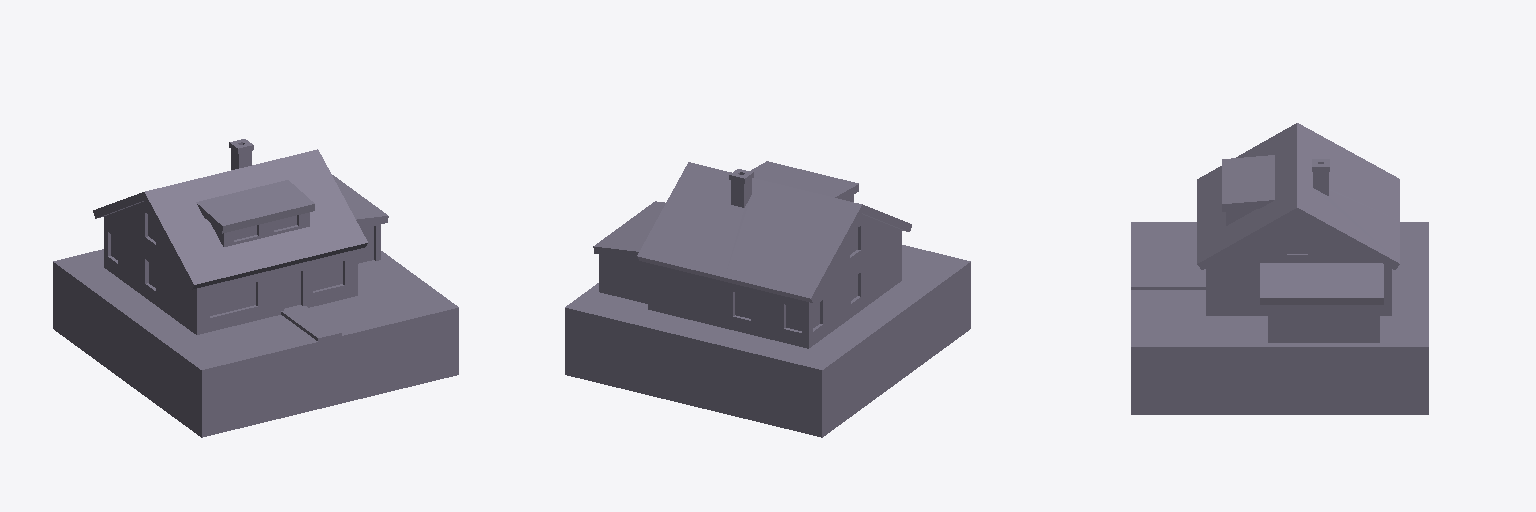
Rendered from house-small-garage.obj.
The picture shows the model from 3 angles: view 1: azimuth 30°, elevation 25°; view 2: azimuth 150°, elevation 25°; view 3: azimuth 270°, elevation 25°; orthographic projection.
Visible parts, largest first — view 1: house-small-garage_Cube.000_basecolors; view 2: house-small-garage_Cube.000_basecolors; view 3: house-small-garage_Cube.000_basecolors.
Part boxes in pixels (x1,y1,x2,y2): house-small-garage_Cube.000_basecolors: (53, 139, 458, 437); house-small-garage_Cube.000_basecolors: (565, 161, 970, 437); house-small-garage_Cube.000_basecolors: (1131, 123, 1428, 414).
Bounding box in the file's own units: 8.1 × 5.76 × 8.1.